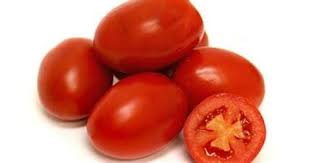tomato: (92, 1, 201, 72), (92, 73, 184, 156)
